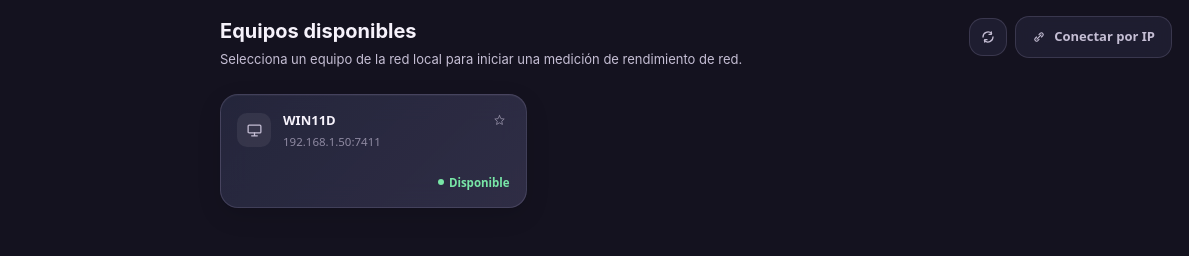
it: Inicio: menú contextual de un equipo › un equipo no guardado no permite quitar confianza ni eliminar
Right-click the list item at point(373, 151), box x1=220 y1=94 x2=527 y2=208
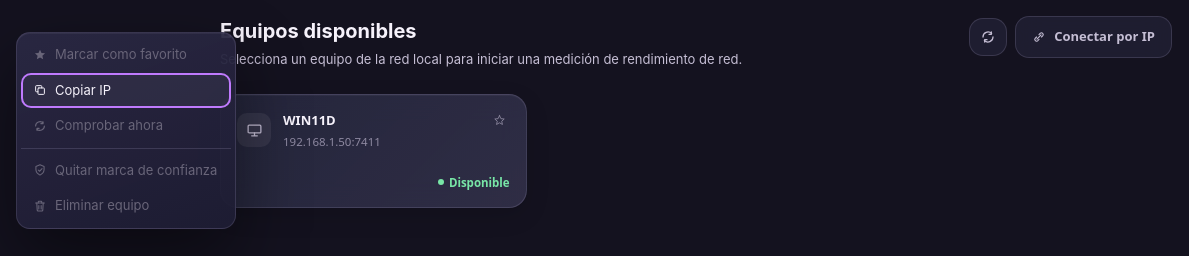
Expected: the menu item "Marcar como favorito" is disabled, x1=21 y1=37 x2=231 y2=72
Expected: the menu item "Quitar marca de confianza" is disabled, x1=21 y1=152 x2=231 y2=188
Expected: the menu item "Eliminar equipo" is disabled, x1=21 y1=188 x2=231 y2=224
